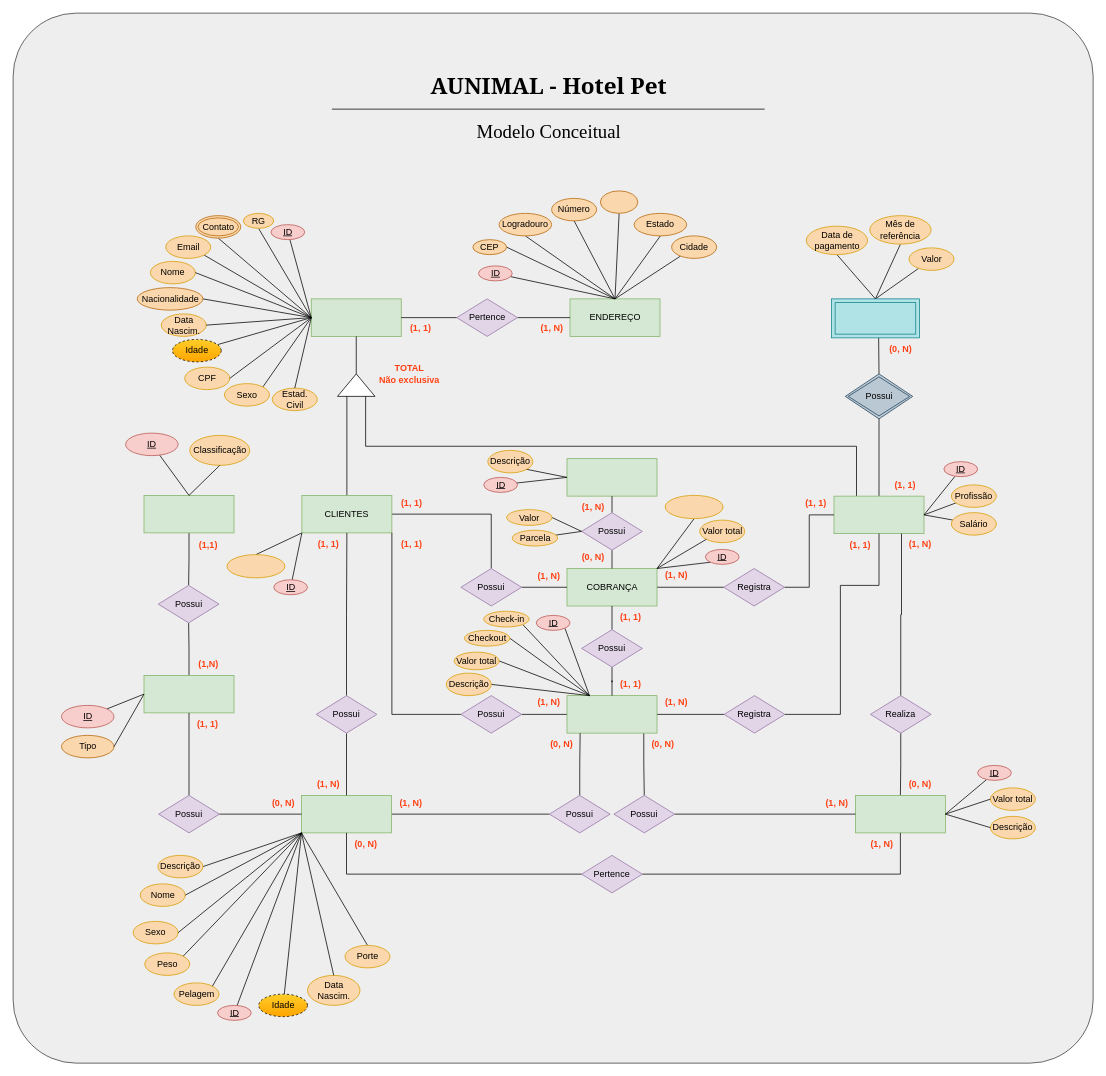
This 1106x1076 diagram has some shape labels left out. Each missing label, with the centre of its shape:
Bairro: (x=619, y=201)
Data cobrança: (x=693, y=507)
Data criação: (x=255, y=566)
ESPÉCIE: (x=188, y=694)
Forma de cobrança: (x=611, y=477)
FUNCIONÁRIOS: (x=878, y=514)
PAGAMENTOS: (x=875, y=318)
PESSOAS: (x=355, y=317)
PETs: (x=346, y=814)
RAÇA: (x=188, y=514)
RESERVA: (x=611, y=714)
SERVIÇOS: (x=900, y=814)
